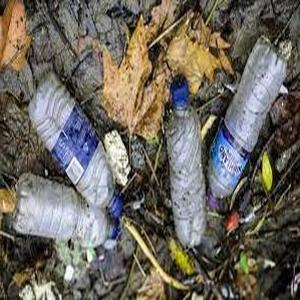Plastic: (207, 36, 292, 208), (30, 71, 126, 216), (8, 168, 116, 257), (162, 84, 208, 247)
